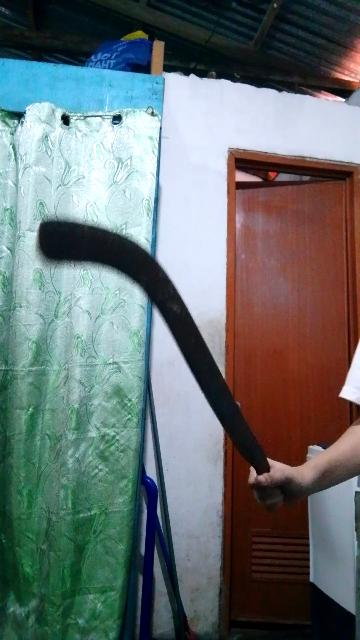long knife: (39, 201, 287, 514)
